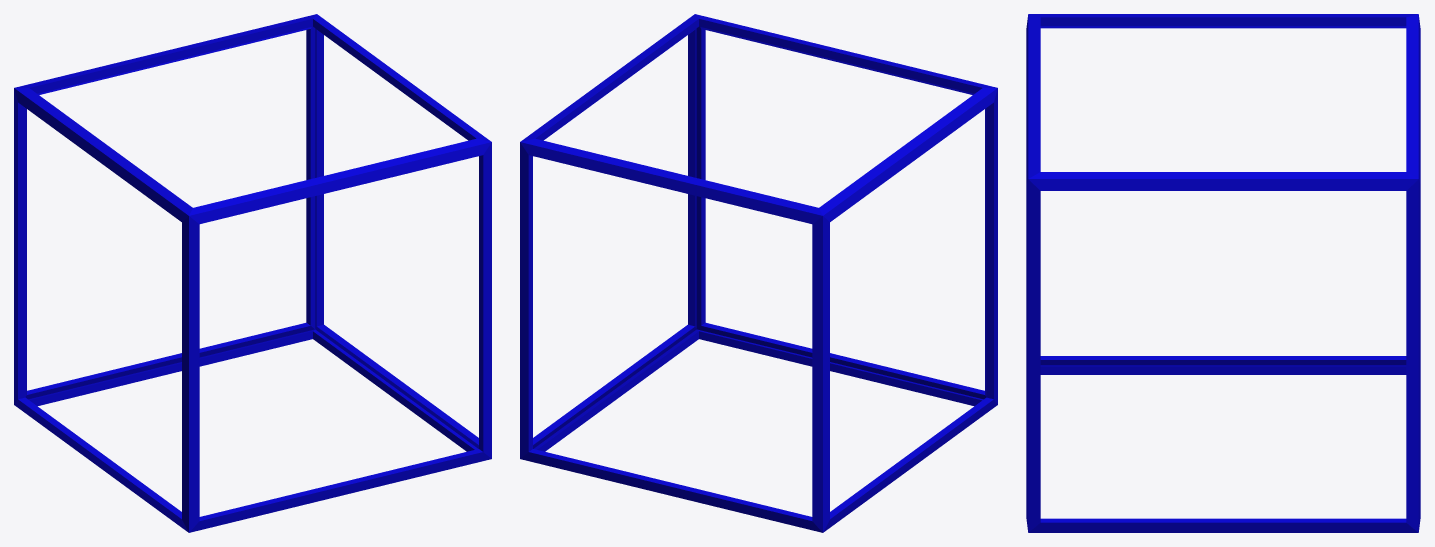
Rendered from aresta-cubo.glb.
3 views of the same model, side by side, from view 1: azimuth 30°, elevation 25°; view 2: azimuth 150°, elevation 25°; view 3: azimuth 270°, elevation 25° (orthographic). The views are drawn at different scales.
Parts seen in each view (by area): view 1: Cube.001; view 2: Cube.001; view 3: Cube.001.
Part boxes in pixels (left/top/right/bottom): Cube.001: left=14, top=14, right=491, bottom=532; Cube.001: left=520, top=14, right=997, bottom=532; Cube.001: left=1026, top=14, right=1420, bottom=532.
Bounding box in the file's own units: 2.05 × 2.05 × 2.05.
